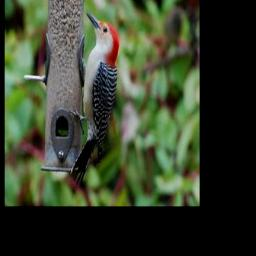Woodpecker: (68, 11, 120, 188)
